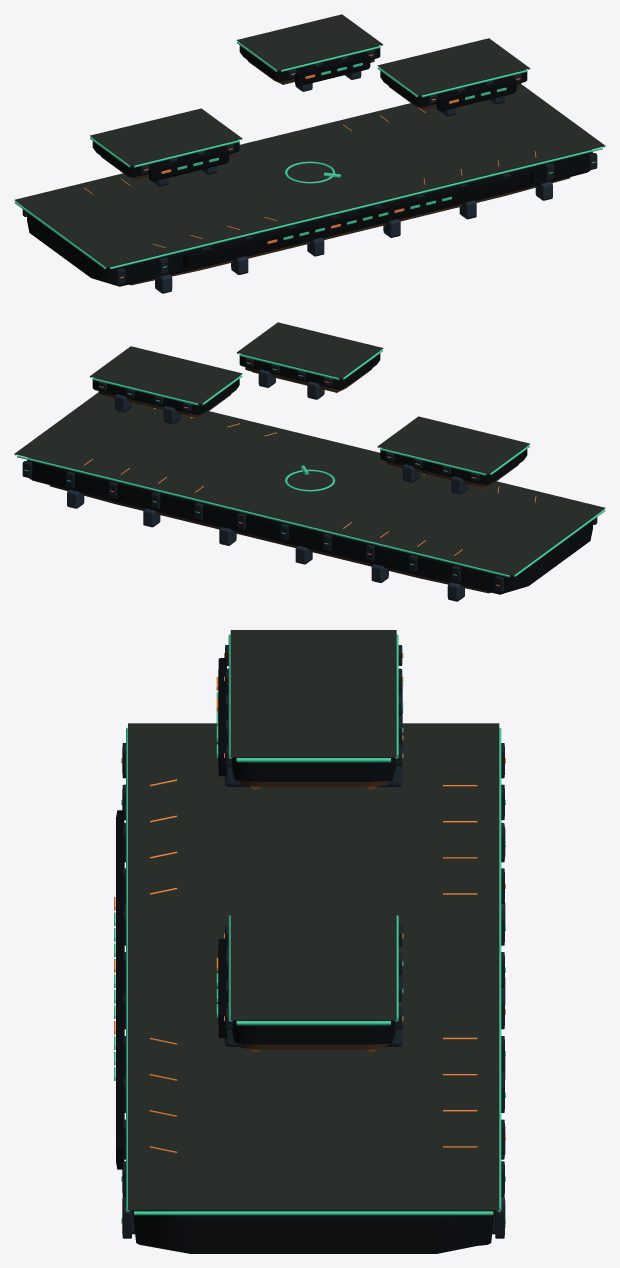
File: compile-club.obj
3 views of the same model, one above another, from view 1: azimuth 30°, elevation 25°; view 2: azimuth 150°, elevation 25°; view 3: azimuth 270°, elevation 25° (orthographic). The views are drawn at different scales.
Parts seen in each view (by area): view 1: arena-deck_part_204, beveled-plate_part_0, beveled-plate_part_62, arena-deck_part_205, arena-deck_part_206, arena-deck_part_207, cylinder_part_162, beveled-plate_part_124, beveled-plate_part_97, beveled-plate_part_151, beveled-plate_part_1, beveled-plate_part_75 (+2 smaller); view 2: arena-deck_part_204, beveled-plate_part_0, arena-deck_part_205, arena-deck_part_206, arena-deck_part_207, cylinder_part_160, beveled-plate_part_75, beveled-plate_part_102, beveled-plate_part_129, beveled-plate_part_1; view 3: arena-deck_part_204, arena-deck_part_206, arena-deck_part_207, beveled-plate_part_0, arena-deck_part_205, beveled-plate_part_129, beveled-plate_part_102, beveled-plate_part_62, cylinder_part_163, cylinder_part_160, cylinder_part_162, beveled-plate_part_103 (+2 smaller).
Part boxes in pixels (x1,y1,x2,y2): arena-deck_part_204: (14, 84, 605, 267); beveled-plate_part_0: (27, 149, 592, 286); beveled-plate_part_62: (183, 172, 533, 267); arena-deck_part_205: (89, 108, 242, 165); arena-deck_part_206: (377, 38, 530, 95); arena-deck_part_207: (236, 14, 382, 70); cylinder_part_162: (109, 147, 602, 269); beveled-plate_part_124: (436, 79, 516, 111); beveled-plate_part_97: (149, 149, 228, 181); beveled-plate_part_151: (295, 55, 370, 86); beveled-plate_part_1: (129, 177, 570, 285); beveled-plate_part_75: (92, 140, 239, 177); arena-deck_part_204: (14, 392, 605, 575); beveled-plate_part_0: (27, 457, 592, 594); arena-deck_part_205: (377, 416, 530, 473); arena-deck_part_206: (89, 346, 242, 403); arena-deck_part_207: (237, 322, 383, 378); cylinder_part_160: (17, 455, 510, 577); beveled-plate_part_75: (380, 448, 527, 485); beveled-plate_part_102: (92, 378, 239, 415); beveled-plate_part_129: (239, 351, 380, 389); beveled-plate_part_1: (49, 485, 490, 593); arena-deck_part_204: (128, 723, 499, 1210); arena-deck_part_206: (230, 911, 396, 1020); arena-deck_part_207: (230, 654, 396, 757); beveled-plate_part_0: (132, 1210, 494, 1253); arena-deck_part_205: (230, 630, 396, 653); beveled-plate_part_129: (231, 757, 395, 781); beveled-plate_part_102: (231, 1020, 395, 1044); beveled-plate_part_62: (116, 810, 124, 1169); cylinder_part_163: (134, 1211, 493, 1215); cylinder_part_160: (497, 727, 501, 1211); cylinder_part_162: (126, 727, 129, 1211); beveled-plate_part_103: (240, 1043, 387, 1049).
Bounding box in the file's own units: 23.69 × 7.65 × 8.02.
